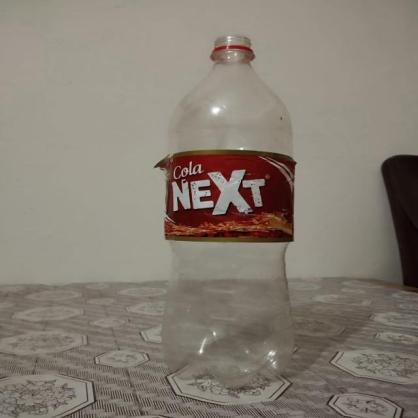bottle: (169, 34, 299, 391)
label: (161, 153, 298, 245)
